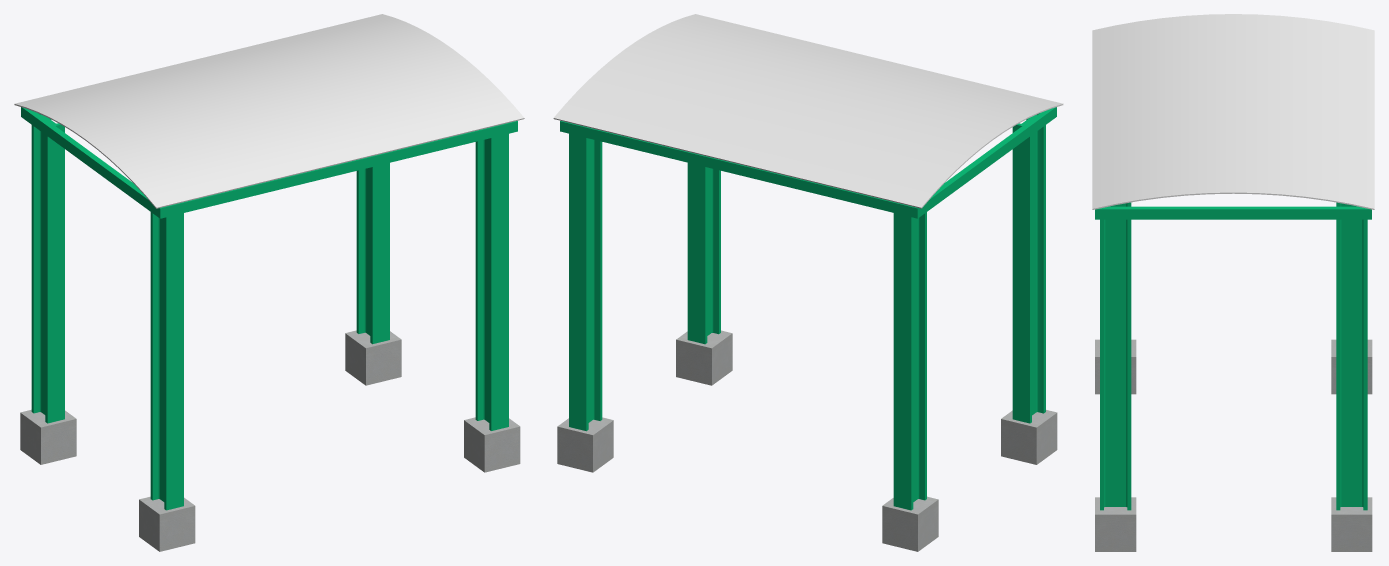
The model's file is garaz.FBX.
3 renders of one model, left to right at view 1: azimuth 30°, elevation 25°; view 2: azimuth 150°, elevation 25°; view 3: azimuth 270°, elevation 25°, orthographic.
Parts seen in each view (by area): view 1: Plane002, Line001, Line002, Line004, Plane001, Line003, Box002, Box001, Box004, Box003; view 2: Plane002, Line004, Line003, Line001, Plane001, Line002, Box001, Box002, Box003, Box004; view 3: Plane002, Line003, Line002, Plane001, Box003, Box002, Box004, Box001.
Part boxes in pixels (x1=…): Plane002: x1=14, y1=14, x2=524, y2=208; Line001: x1=150, y1=212, x2=183, y2=510; Line002: x1=475, y1=134, x2=508, y2=430; Line004: x1=31, y1=115, x2=64, y2=423; Plane001: x1=21, y1=107, x2=517, y2=218; Line003: x1=356, y1=163, x2=389, y2=344; Box002: x1=464, y1=417, x2=520, y2=472; Box001: x1=139, y1=496, x2=195, y2=551; Box004: x1=20, y1=409, x2=76, y2=464; Box003: x1=345, y1=330, x2=401, y2=385; Plane002: x1=553, y1=14, x2=1063, y2=208; Line004: x1=893, y1=212, x2=926, y2=510; Line003: x1=569, y1=133, x2=602, y2=431; Line001: x1=1012, y1=115, x2=1045, y2=423; Plane001: x1=560, y1=107, x2=1056, y2=218; Line002: x1=687, y1=162, x2=720, y2=344; Box001: x1=1001, y1=410, x2=1057, y2=464; Box002: x1=676, y1=330, x2=732, y2=385; Box003: x1=557, y1=417, x2=613, y2=472; Box004: x1=882, y1=496, x2=938, y2=551; Plane002: x1=1092, y1=14, x2=1374, y2=209; Line003: x1=1336, y1=219, x2=1367, y2=510; Line002: x1=1100, y1=219, x2=1131, y2=510; Plane001: x1=1095, y1=206, x2=1371, y2=219; Box003: x1=1331, y1=497, x2=1372, y2=551; Box002: x1=1095, y1=497, x2=1136, y2=551; Box004: x1=1331, y1=339, x2=1372, y2=394; Box001: x1=1095, y1=339, x2=1136, y2=394.
Bounding box in the file's own units: 309 × 206 × 291.
Materials: 3 (1 with a texture image).
